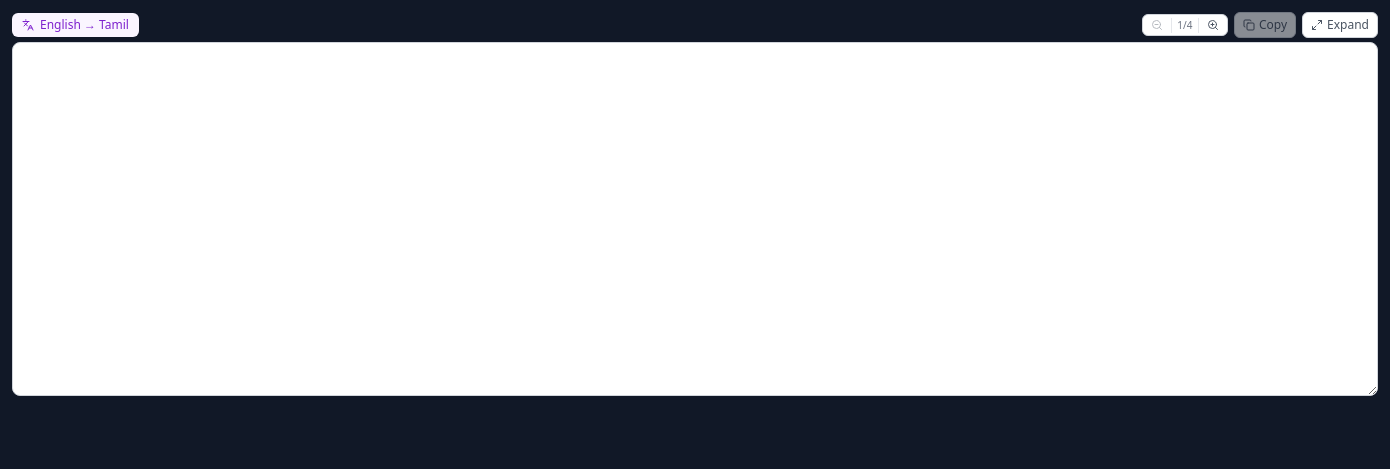
Test: LyricDraftEditor › zoom › shrinks back down on Decrease and disables at the base step
Click the button named "increase text size" at (1213, 25), box [1199,15,1227,35]
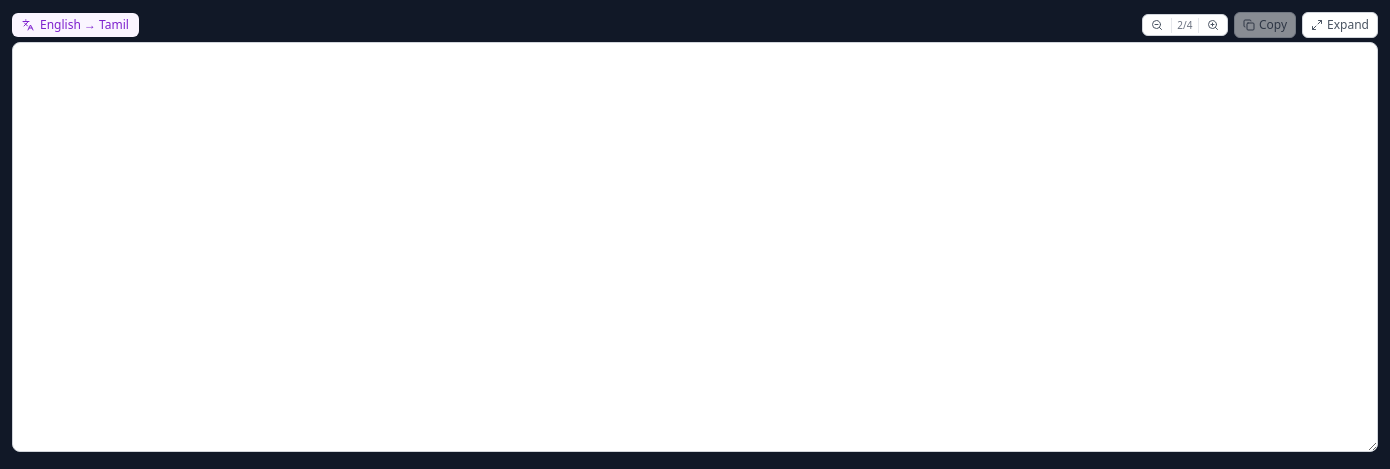
Click the button named "decrease text size" at (1157, 25), box [1143,15,1171,35]
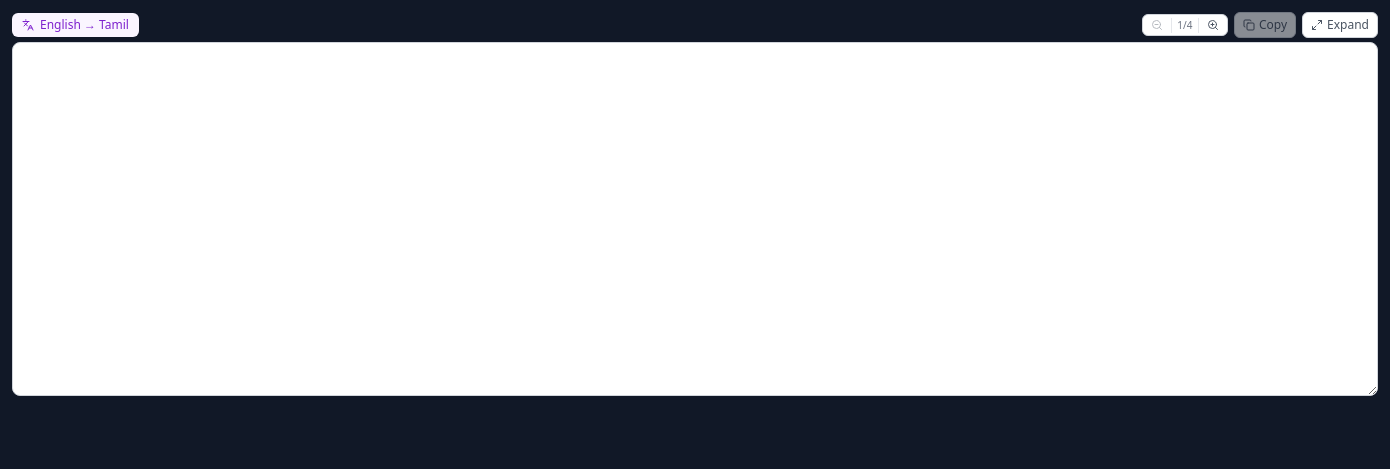
Expected: the text "1/4" is shown, [1171,18,1199,32]
Expected: the button named "decrease text size" is disabled, [1143,15,1171,35]
